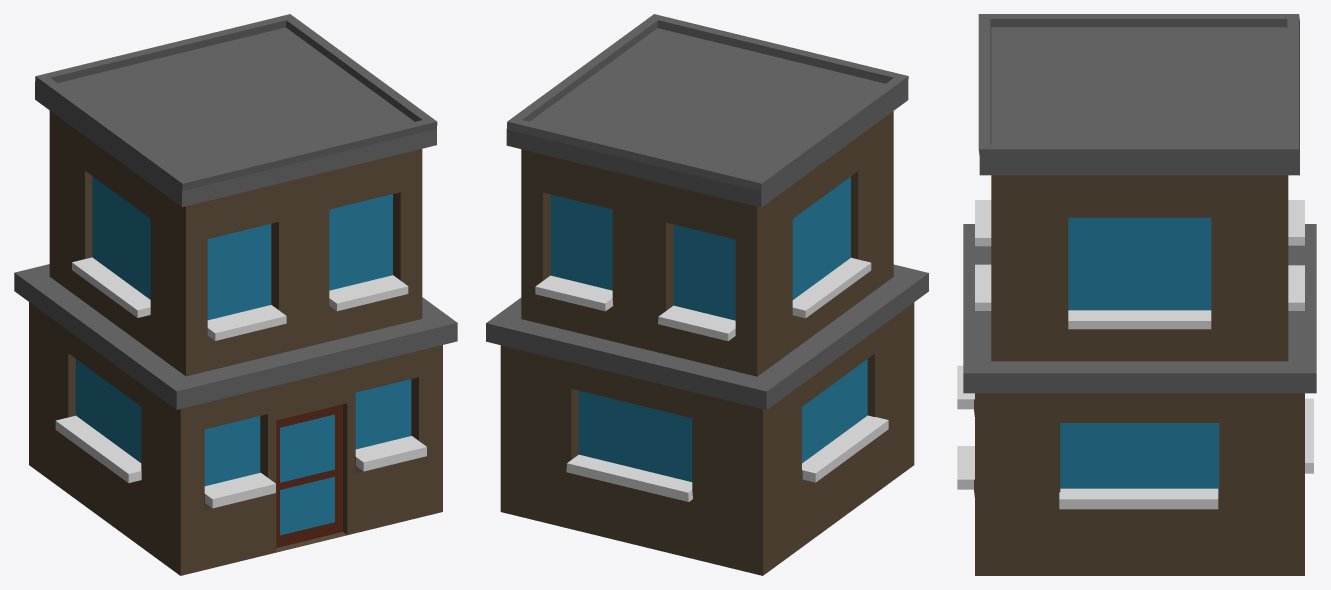
The model's file is kamieniczka.fbx.
The picture shows the model from 3 angles, left to right: view 1: azimuth 30°, elevation 25°; view 2: azimuth 150°, elevation 25°; view 3: azimuth 270°, elevation 25°; orthographic projection. The views are drawn at different scales.
Parts seen in each view (by area): view 1: kamieniczka; view 2: kamieniczka; view 3: kamieniczka.
Boxes of the visible parts, left/top/right/bottom form: kamieniczka: left=14, top=14, right=457, bottom=575; kamieniczka: left=486, top=14, right=928, bottom=575; kamieniczka: left=957, top=14, right=1316, bottom=575.
Bounding box in the file's own units: 396 × 511 × 392.
